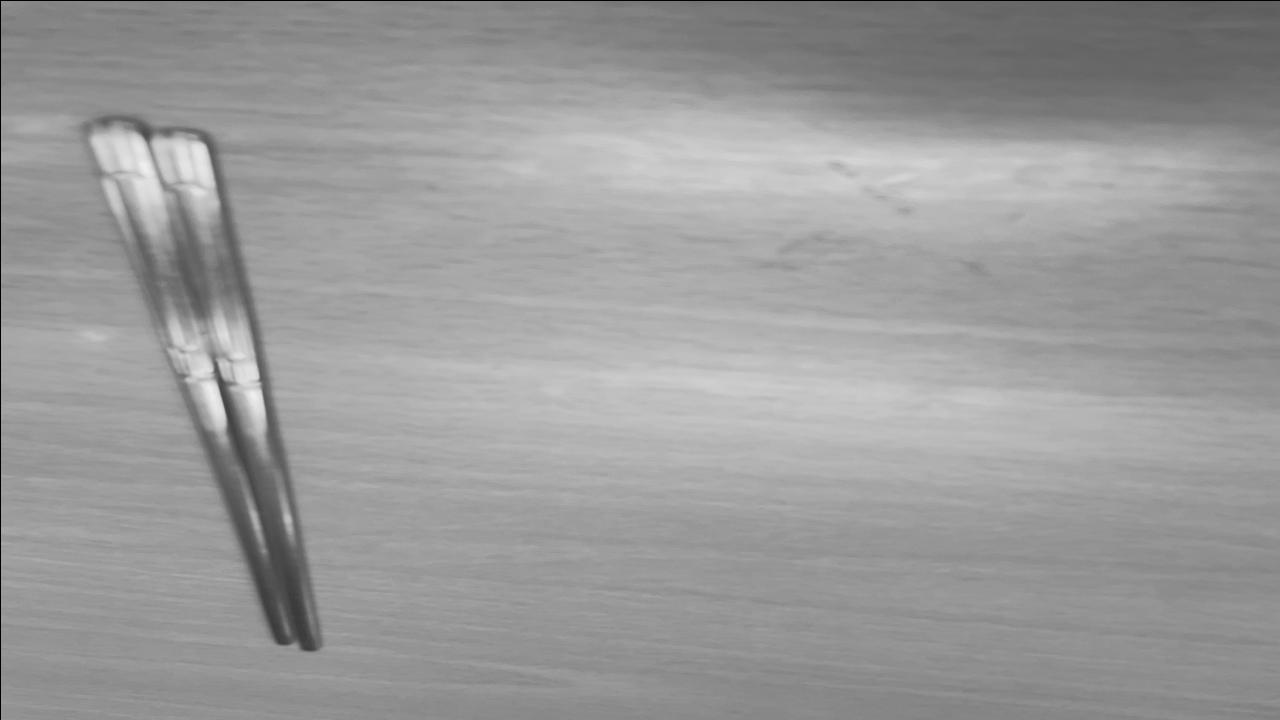chopstick: (88, 122, 322, 650)
